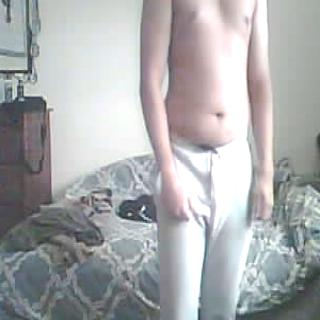White Sweatpants: (152, 117, 262, 320)
